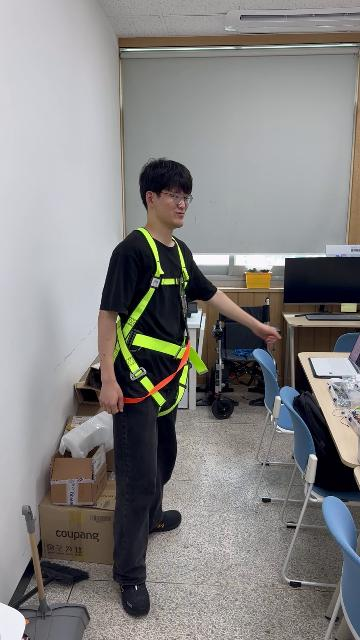helmet_not_worn: (135, 154, 198, 218)
shoe_worn: (119, 581, 149, 616), (151, 510, 181, 534)
vest_worn: (109, 238, 206, 413)
